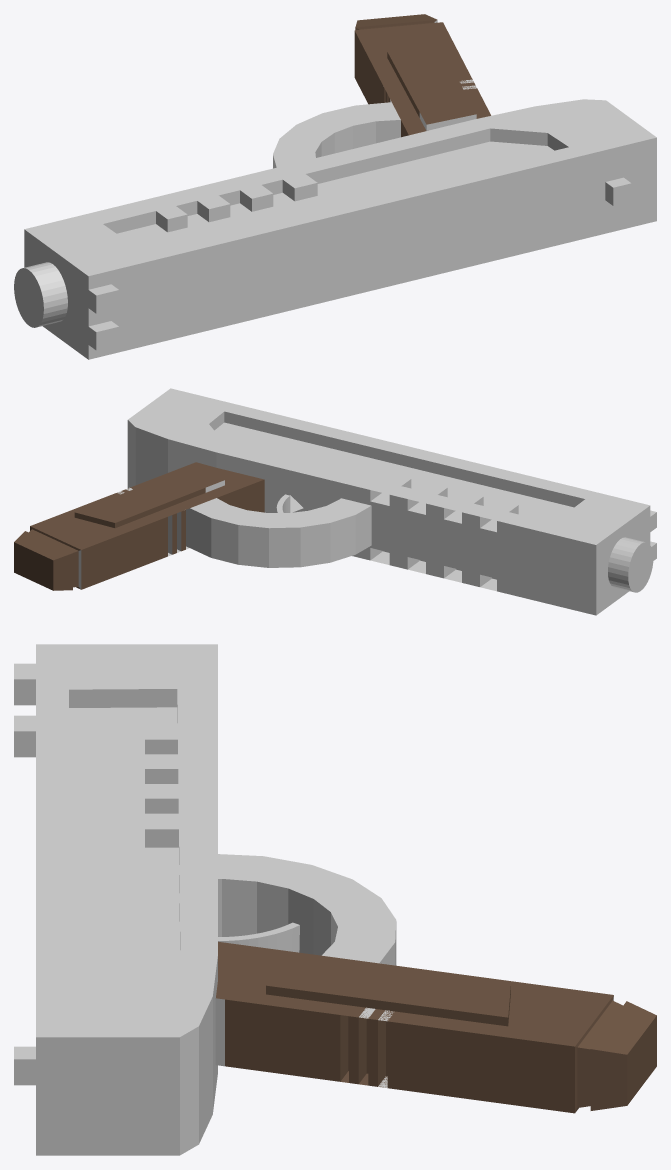
The model's file is pistol.fbx.
The picture shows the model from 3 angles, top to bottom: view 1: azimuth 30°, elevation 25°; view 2: azimuth 150°, elevation 25°; view 3: azimuth 270°, elevation 25°; orthographic projection. The views are drawn at different scales.
Visible parts, largest first — view 1: Cube.002; view 2: Cube.002; view 3: Cube.002.
Boxes of the visible parts, bbox=[...] form: Cube.002: bbox=[14, 14, 656, 359]; Cube.002: bbox=[14, 388, 656, 615]; Cube.002: bbox=[14, 644, 656, 1155].
Bounding box in the file's own units: 129 × 17.34 × 85.41.
